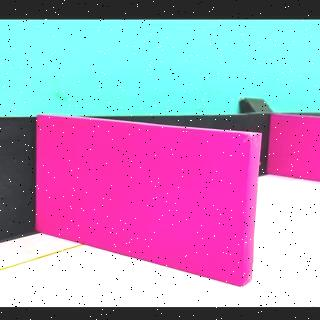xparking: (45, 140, 250, 272), (280, 118, 314, 180)
